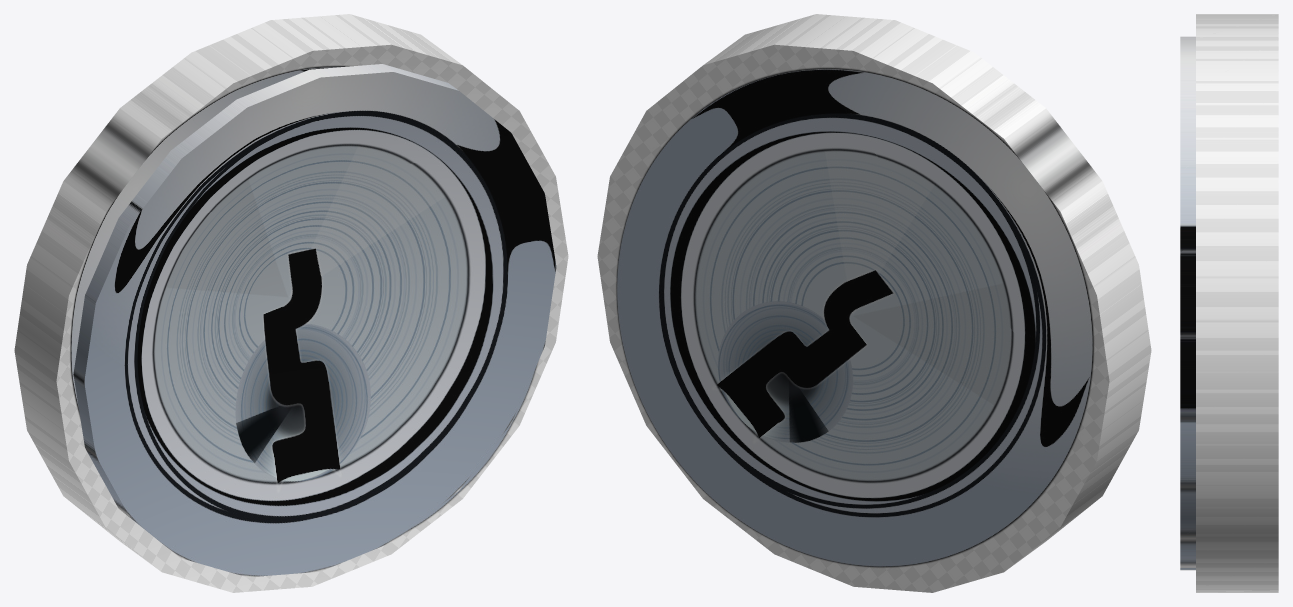
File: Keyhole.obj
The picture shows the model from 3 angles, left to right: view 1: azimuth 30°, elevation 25°; view 2: azimuth 150°, elevation 25°; view 3: azimuth 270°, elevation 25°; orthographic projection.
Visible parts, largest first — view 1: Keyhole; view 2: Keyhole; view 3: Keyhole.
Boxes of the visible parts, x1,y1,x2,y2 form: Keyhole: (14,14,568,592); Keyhole: (597,14,1151,592); Keyhole: (1180,14,1278,592).
Bounding box in the file's own units: 8.68 × 8.68 × 1.47.
Materials: 1 (1 with a texture image).
